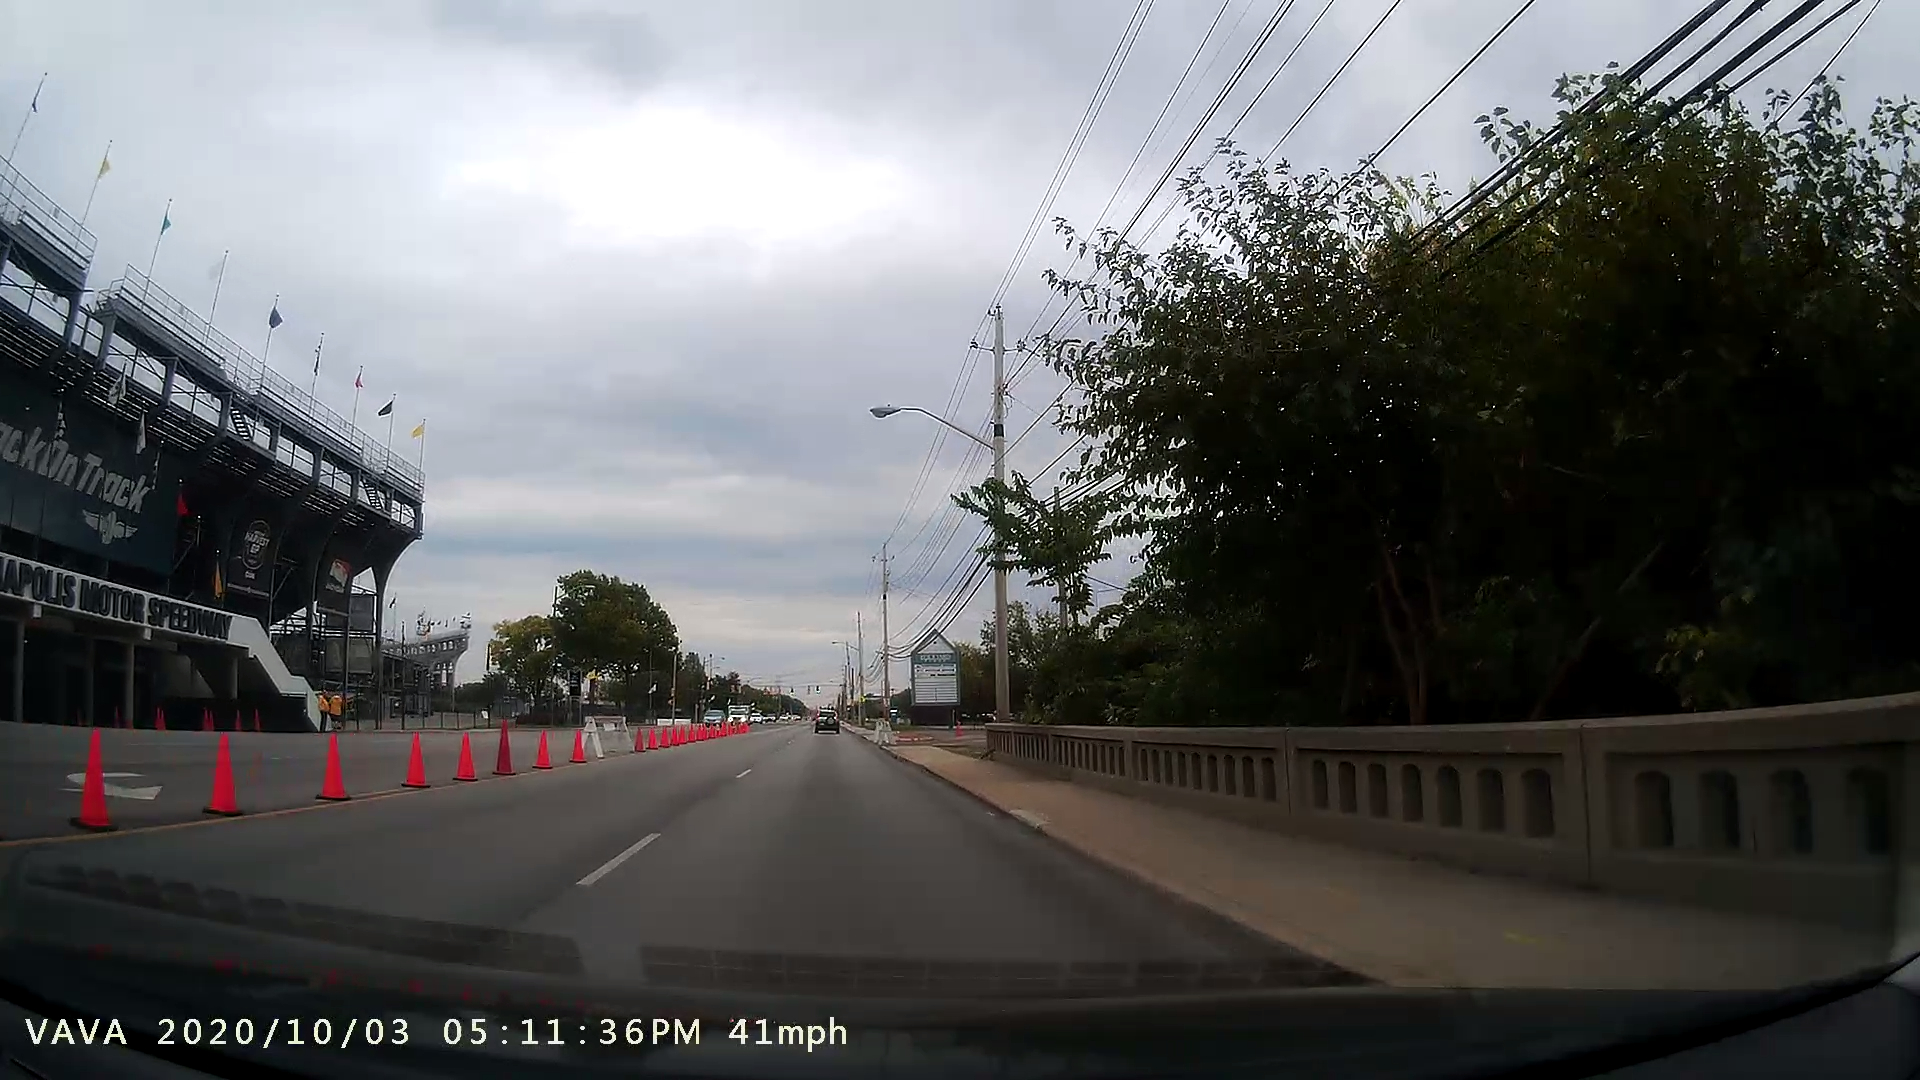const_cone: (55, 711, 131, 839), (190, 709, 251, 820), (305, 717, 364, 814), (390, 716, 443, 795), (484, 705, 527, 786), (447, 723, 483, 789), (535, 721, 564, 774)
